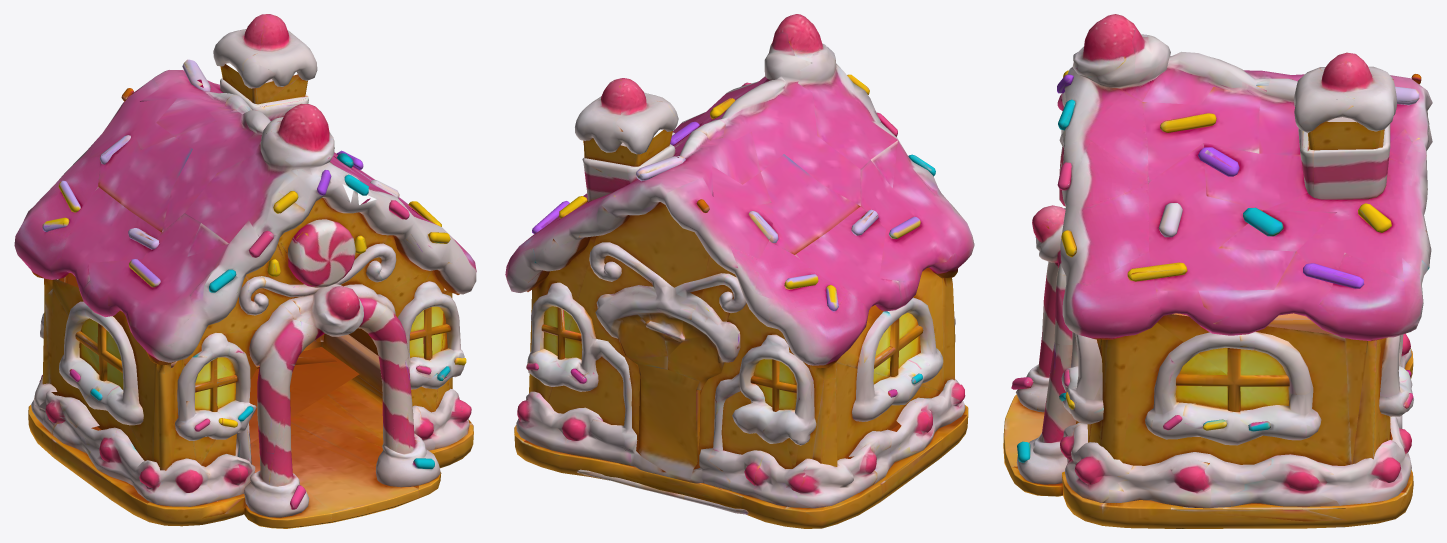
Rendered from gingerbread_house.glb.
The picture shows the model from 3 angles, left to right: view 1: azimuth 30°, elevation 25°; view 2: azimuth 150°, elevation 25°; view 3: azimuth 270°, elevation 25°; orthographic projection. The views are drawn at different scales.
Size of what is drawn, in the model's own units: 0.9365 by 1 by 0.915.
1 material, 1 textured.
